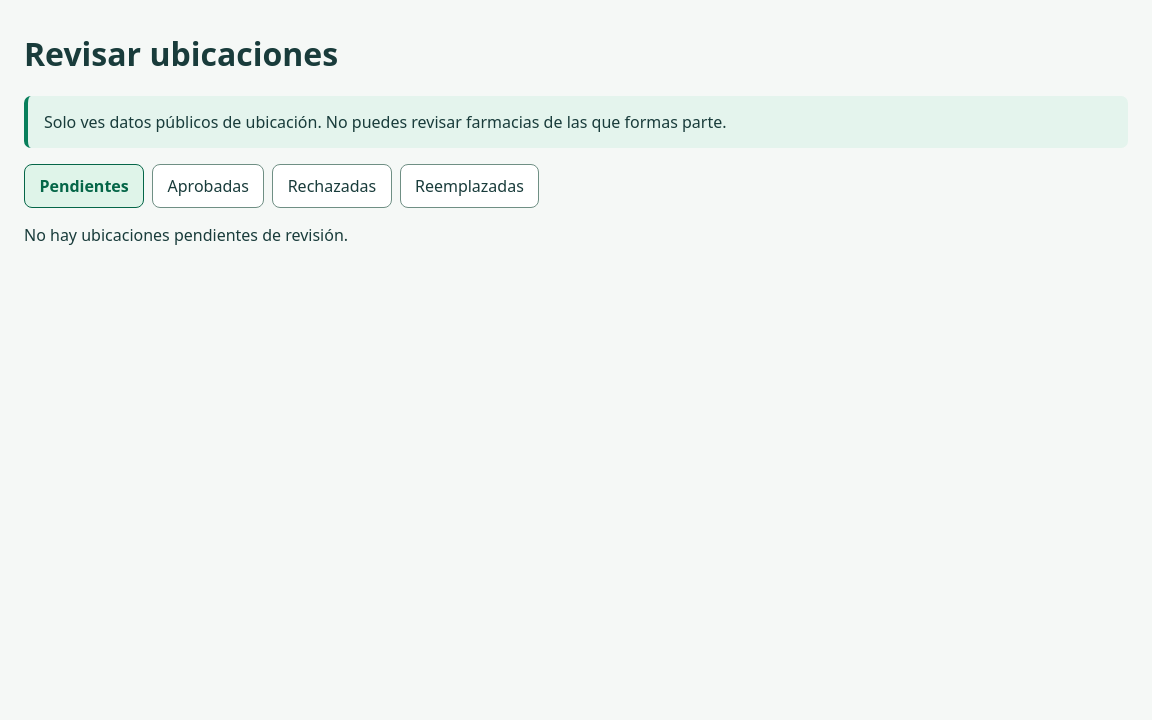
Test: F07.2 · «Revisar ubicaciones» (FR-005, FR-008, FR-009, T009) › filtro «Reemplazadas»: fila con «Reemplazada», fecha de reemplazo y motivo
Check: the text "No hay ubicaciones pendientes de revisión." is shown, box [24,224,348,246]
Click the button "Reemplazadas": point(469, 186) [400,164,539,208]
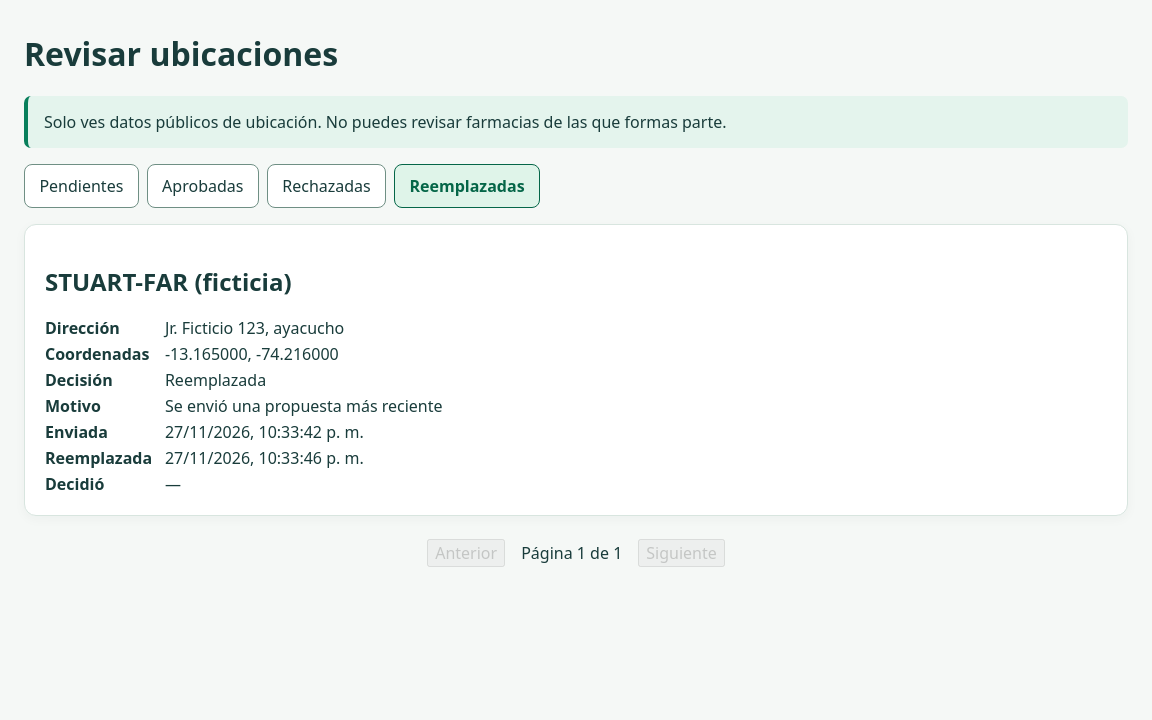
Check: the 1st text "Reemplazada" is shown, box [165,369,266,391]
Check: the text "Se envió una propuesta más reciente" is shown, box [165,395,442,417]
